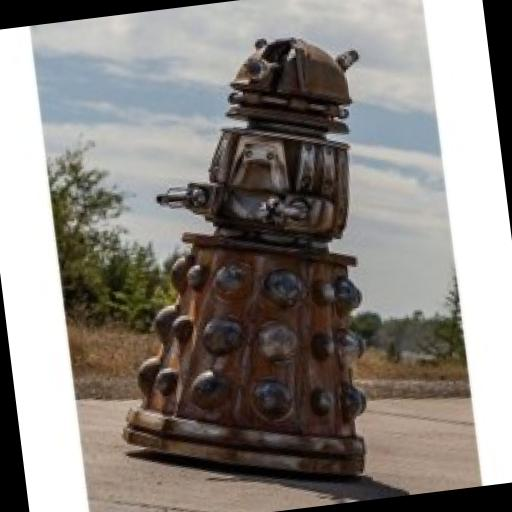dalek: (77, 20, 420, 510)
